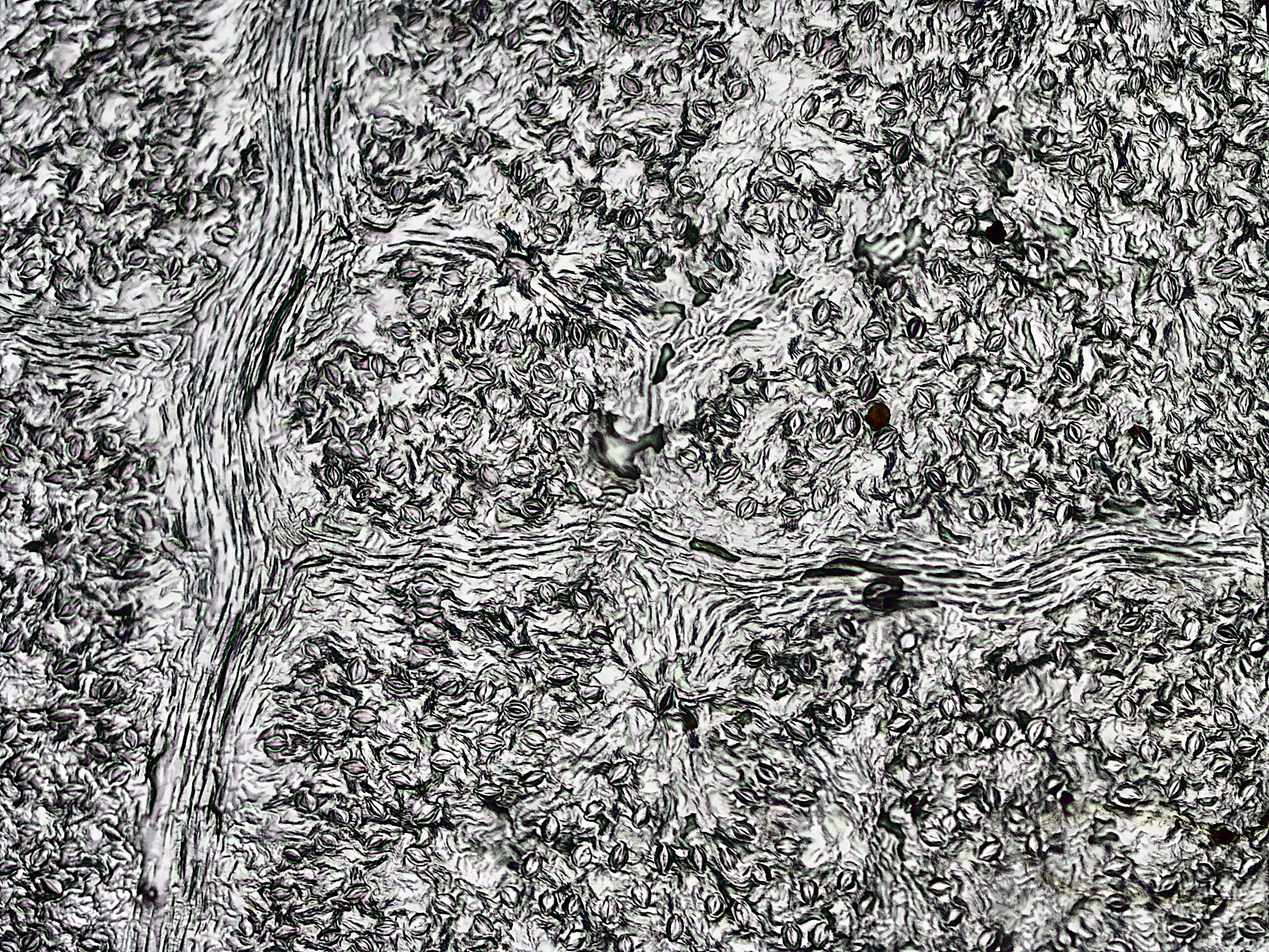stomata: (651, 681, 675, 719), (605, 758, 635, 786), (988, 717, 1015, 748), (891, 32, 915, 66), (1158, 270, 1181, 305), (794, 350, 819, 382), (413, 796, 440, 825), (64, 163, 87, 196), (476, 729, 506, 754), (573, 382, 595, 416), (429, 747, 460, 771), (808, 181, 836, 207), (609, 839, 631, 872), (1223, 200, 1245, 233), (1163, 771, 1188, 800), (655, 841, 675, 877), (890, 134, 912, 166), (574, 75, 599, 103), (387, 406, 411, 435), (579, 280, 608, 304), (811, 298, 835, 327), (955, 458, 979, 487), (977, 424, 1000, 454), (0, 626, 26, 652), (471, 70, 497, 96), (784, 715, 809, 742), (545, 130, 573, 154), (504, 252, 536, 273), (722, 718, 750, 742), (1025, 711, 1046, 743), (469, 125, 492, 154), (887, 668, 910, 697), (347, 708, 382, 727), (547, 663, 577, 685), (711, 460, 741, 482), (993, 492, 1015, 522), (1234, 450, 1256, 480), (417, 621, 448, 642), (800, 92, 821, 123), (1174, 810, 1199, 836), (701, 39, 728, 63), (963, 724, 987, 751), (386, 767, 414, 790), (893, 483, 916, 511), (733, 783, 761, 806), (1139, 641, 1167, 664), (1217, 12, 1249, 32), (878, 92, 907, 114), (1069, 714, 1091, 743), (1168, 916, 1197, 938), (1211, 259, 1244, 278), (105, 135, 129, 161), (386, 180, 410, 206), (469, 623, 495, 647), (1071, 185, 1097, 209), (1212, 702, 1236, 728), (1192, 858, 1216, 884), (385, 674, 416, 694), (860, 320, 891, 340), (730, 820, 758, 842), (833, 693, 851, 727), (465, 363, 494, 384), (1024, 830, 1045, 859), (387, 743, 419, 762), (858, 370, 877, 402), (100, 192, 125, 216), (15, 259, 45, 279), (474, 680, 498, 705), (834, 867, 858, 892), (903, 316, 927, 341), (937, 343, 957, 373), (1212, 484, 1242, 504), (471, 910, 497, 933), (885, 275, 908, 301), (342, 755, 369, 777), (726, 361, 753, 383), (790, 788, 818, 809), (539, 318, 559, 347), (474, 781, 503, 801), (1180, 614, 1200, 643), (417, 714, 449, 732), (665, 910, 683, 942), (705, 888, 723, 920), (801, 875, 819, 907), (1163, 194, 1181, 226), (1064, 459, 1088, 483), (107, 764, 132, 787), (433, 893, 458, 916), (924, 468, 949, 491), (1053, 359, 1076, 384), (1107, 358, 1130, 383), (449, 28, 475, 50), (578, 185, 604, 207), (809, 921, 831, 947), (1187, 22, 1209, 48), (886, 710, 912, 732), (677, 0, 696, 30), (632, 880, 651, 910), (690, 847, 709, 877), (131, 507, 152, 534), (405, 844, 432, 865), (672, 175, 699, 196), (532, 191, 559, 212), (1003, 363, 1024, 390), (860, 0, 877, 33), (804, 29, 824, 57), (870, 426, 898, 446), (1114, 781, 1142, 801), (953, 184, 984, 202), (925, 876, 956, 894), (984, 328, 1007, 352), (974, 923, 998, 946), (980, 839, 1004, 862), (1237, 777, 1260, 801), (542, 814, 561, 843), (732, 900, 751, 929), (29, 575, 51, 600), (426, 450, 451, 472), (693, 97, 718, 119), (579, 682, 604, 704), (1113, 170, 1138, 192), (744, 646, 769, 668), (931, 735, 953, 760), (549, 0, 570, 26), (346, 655, 367, 681), (1054, 499, 1075, 525), (97, 538, 124, 558), (620, 205, 640, 232), (644, 179, 671, 199), (772, 835, 802, 853), (930, 257, 950, 284), (842, 411, 862, 438), (1172, 495, 1202, 513), (756, 759, 776, 786), (939, 693, 957, 723), (1216, 596, 1243, 616), (448, 498, 476, 517), (297, 785, 316, 813), (783, 921, 802, 949), (949, 62, 968, 90), (1193, 190, 1212, 218), (1233, 736, 1261, 755), (473, 307, 496, 330), (1194, 390, 1217, 413), (124, 247, 148, 269), (57, 597, 81, 619), (86, 737, 110, 759), (552, 38, 576, 60), (408, 913, 432, 935), (725, 78, 749, 100), (712, 248, 734, 272), (589, 624, 613, 646), (780, 494, 802, 518), (1115, 697, 1137, 721), (14, 761, 39, 782), (374, 116, 399, 137), (825, 354, 850, 375), (944, 903, 965, 928), (1214, 625, 1239, 646), (1241, 917, 1266, 938), (1128, 69, 1146, 98), (959, 686, 988, 704), (1185, 731, 1203, 760), (0, 714, 20, 740), (323, 361, 343, 387), (537, 429, 557, 455), (519, 497, 545, 517), (755, 177, 775, 203), (968, 498, 988, 524), (272, 922, 299, 941), (1205, 66, 1224, 93), (786, 409, 805, 436), (518, 770, 548, 787), (764, 32, 781, 62), (598, 0, 620, 23), (563, 928, 586, 950), (980, 144, 1003, 166), (1219, 313, 1241, 336), (26, 505, 50, 526), (529, 57, 553, 78), (637, 135, 658, 159), (506, 646, 542, 660), (939, 309, 960, 333), (1133, 425, 1154, 449), (1235, 386, 1253, 414), (1150, 695, 1171, 719), (381, 459, 406, 479), (437, 676, 462, 696), (1082, 393, 1102, 418), (43, 469, 76, 484), (523, 852, 542, 878), (599, 132, 618, 158), (500, 605, 519, 631), (1172, 450, 1191, 476), (904, 747, 923, 773), (1105, 892, 1131, 911), (1137, 321, 1156, 347), (149, 144, 176, 162), (574, 842, 592, 869), (677, 129, 704, 147), (966, 22, 984, 49), (901, 627, 919, 654), (1096, 312, 1114, 339), (660, 62, 682, 84), (697, 273, 719, 295), (830, 108, 852, 130), (62, 390, 85, 411), (28, 847, 51, 868), (470, 0, 491, 23), (402, 502, 423, 525), (525, 393, 546, 416), (621, 74, 642, 97), (825, 45, 846, 68), (1165, 412, 1186, 435), (1192, 658, 1213, 681), (176, 188, 196, 212), (311, 703, 341, 719), (367, 794, 387, 818), (344, 881, 368, 901), (814, 418, 834, 442), (1208, 432, 1232, 452), (1118, 611, 1142, 631), (916, 68, 933, 96), (1021, 5, 1038, 33), (22, 66, 47, 85), (403, 10, 428, 29), (424, 45, 443, 70), (346, 440, 371, 459), (481, 464, 500, 489), (521, 729, 546, 748), (1005, 273, 1024, 298), (736, 495, 755, 520), (784, 458, 809, 477), (956, 387, 975, 412), (994, 655, 1013, 680), (1091, 589, 1116, 608), (55, 657, 81, 675), (505, 327, 523, 353), (673, 213, 691, 239), (719, 846, 737, 872), (946, 0, 964, 26), (1071, 150, 1089, 176), (697, 413, 715, 439), (1104, 855, 1130, 873), (1098, 668, 1124, 686), (918, 828, 947, 844), (8, 145, 30, 166), (117, 459, 139, 480), (504, 700, 526, 721), (750, 864, 771, 886), (676, 445, 698, 466), (1055, 925, 1076, 947), (1147, 362, 1169, 383), (1, 441, 21, 464), (1113, 471, 1133, 494), (539, 889, 556, 916), (1026, 420, 1043, 447), (396, 258, 420, 277), (442, 268, 466, 287), (266, 735, 290, 754), (564, 426, 583, 450), (1070, 41, 1089, 65), (788, 199, 807, 223), (955, 773, 979, 792), (48, 707, 83, 720), (216, 173, 231, 203), (100, 429, 118, 454), (414, 602, 444, 617), (993, 45, 1011, 70), (1102, 754, 1127, 772), (165, 253, 181, 281), (1099, 8, 1115, 36), (442, 82, 459, 108), (328, 416, 349, 437), (970, 237, 991, 258), (1059, 289, 1080, 310), (646, 10, 666, 32), (509, 161, 531, 181), (452, 406, 472, 428), (415, 573, 437, 593), (374, 917, 396, 937), (600, 329, 620, 351), (1156, 876, 1178, 896), (52, 254, 75, 273), (38, 428, 57, 451), (388, 321, 411, 340), (533, 363, 556, 382), (237, 915, 256, 938), (838, 618, 857, 641), (1140, 739, 1159, 762), (1194, 790, 1217, 809), (571, 318, 585, 349), (393, 138, 411, 162), (369, 355, 387, 379), (539, 223, 563, 241), (98, 9, 123, 26), (966, 273, 983, 298), (70, 125, 91, 145), (201, 255, 221, 276), (60, 783, 88, 798), (570, 588, 590, 609), (1207, 131, 1221, 161), (0, 395, 19, 417), (360, 137, 379, 159), (622, 18, 641, 40), (400, 354, 422, 373), (500, 886, 519, 908), (524, 99, 546, 118), (584, 800, 606, 819), (212, 226, 238, 242), (427, 147, 443, 173), (760, 378, 776, 404), (1099, 436, 1115, 462), (857, 892, 873, 918), (1091, 643, 1117, 659), (86, 512, 109, 530), (409, 298, 432, 316), (493, 392, 511, 415), (510, 457, 533, 475), (775, 152, 793, 175), (182, 63, 206, 80), (850, 74, 867, 98), (747, 215, 771, 232), (811, 487, 828, 511), (314, 928, 341, 943), (1211, 821, 1238, 836), (1054, 640, 1067, 671), (68, 436, 84, 461), (545, 476, 565, 496), (1135, 141, 1155, 161), (441, 182, 462, 201), (147, 175, 165, 197), (437, 326, 459, 344), (428, 384, 446, 406), (1040, 68, 1058, 90), (953, 214, 975, 232), (1204, 352, 1222, 374), (244, 165, 267, 182), (558, 709, 581, 726), (633, 803, 650, 826), (1158, 59, 1175, 82), (1038, 122, 1055, 145), (1021, 474, 1044, 491), (799, 651, 816, 674), (601, 897, 616, 923), (56, 840, 80, 856), (139, 95, 163, 111), (498, 434, 522, 450), (1154, 114, 1170, 138), (363, 832, 383, 851), (1106, 44, 1126, 63), (915, 387, 934, 407), (789, 620, 809, 639), (99, 678, 117, 699), (16, 897, 37, 915), (318, 831, 339, 849), (538, 582, 556, 603), (1066, 421, 1084, 442), (268, 885, 293, 900), (1180, 682, 1195, 707), (42, 877, 64, 894), (353, 482, 375, 499), (1026, 242, 1043, 264), (301, 641, 324, 657), (298, 394, 318, 412), (331, 805, 349, 825), (606, 247, 626, 265), (1232, 96, 1252, 114), (865, 169, 883, 189), (1249, 636, 1269, 654), (123, 726, 139, 748), (313, 740, 329, 762), (566, 894, 582, 916), (18, 708, 43, 722), (325, 462, 339, 487), (74, 936, 97, 951), (378, 54, 393, 77), (616, 933, 634, 952), (729, 397, 747, 416), (0, 858, 20, 875), (24, 932, 41, 952), (643, 244, 660, 264), (300, 670, 321, 686), (915, 1, 939, 15), (1092, 114, 1106, 138), (1246, 159, 1261, 181), (985, 786, 1000, 808), (1251, 334, 1269, 352), (283, 844, 300, 863), (811, 220, 830, 237), (122, 556, 145, 570), (782, 232, 797, 253), (1107, 939, 1131, 952), (409, 643, 431, 657), (353, 936, 372, 952), (1213, 759, 1230, 776), (1124, 10, 1136, 34), (1258, 425, 1269, 450), (506, 28, 520, 47), (740, 0, 760, 13), (1, 936, 17, 952), (0, 493, 10, 517)
